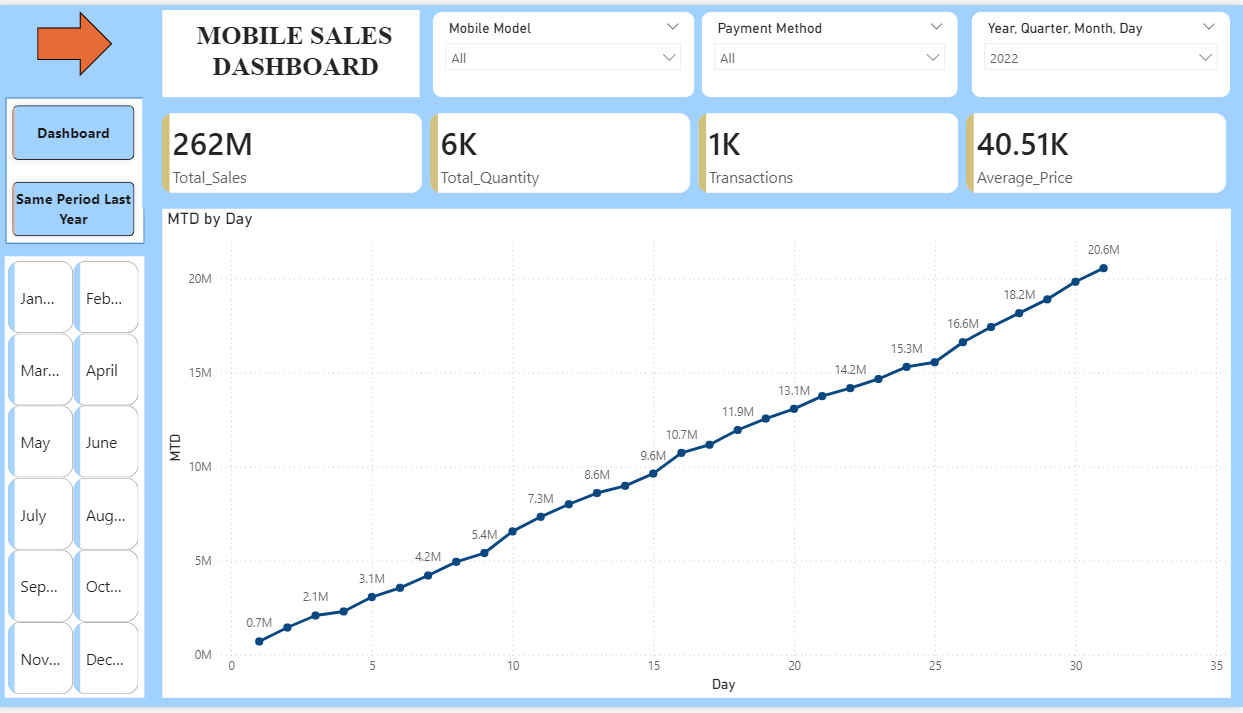

The dashboard page shown, as its layout file describes it:
{"tool":"powerbi","page":{"name":"Month to Date Report","canvas":[1280,720],"ordinal":1},"visuals":[{"type":"slicer","fields":{"Values":["Sales Data.Mobile Model"]},"box":[447.4,6.4,269.2,88.5],"z":0},{"type":"slicer","fields":{"Values":["Sales Data.Payment Method"]},"box":[723.1,6.4,264.1,88.5],"z":1000},{"type":"slicer","fields":{"Values":["Custome_Calendar.Date.Variation.Date Hierarchy.Year","Custome_Calendar.Date.Variation.Date Hierarchy.Quarter","Custome_Calendar.Date.Variation.Date Hierarchy.Month","Custome_Calendar.Date.Variation.Date Hierarchy.Day"]},"box":[1000,6.4,266.7,88.5],"z":2000},{"type":"shape","box":[42.3,6.4,76.9,66.7],"z":3000},{"type":"textbox","box":[170.5,5.1,264.1,89.7],"z":4000},{"type":"shape","box":[9,94.9,143.6,150],"z":5000},{"type":"advancedSlicerVisual","fields":{"Values":["Custome_Calendar.Date.Variation.Date Hierarchy.Month"]},"box":[9,257.7,143.6,452.6],"z":6000},{"type":"cardVisual","fields":{"Data":["Sales Data.Total_Sales","Sales Data.Total_Quantity","Sales Data.Transactions","Sales Data.Average_Price"]},"box":[150,94.9,1129.5,114.1],"z":7000},{"type":"lineChart","fields":{"Category":["Custome_Calendar.Date.Variation.Date Hierarchy.Year","Custome_Calendar.Date.Variation.Date Hierarchy.Quarter","Custome_Calendar.Date.Variation.Date Hierarchy.Month","Custome_Calendar.Date.Variation.Date Hierarchy.Day"],"Y":["Sales Data.MTD"]},"box":[170.5,209,1096.2,501.3],"z":8000},{"type":"pageNavigator","box":[9,94.9,141,150],"z":8001}]}

Visuals, with their boxes in screenshot pixels (x1, y1, x2, y2), scaled from the page's 1280x720 canvas onto the 1243x713 screenshot:
slicer - Sales Data.Mobile Model: (left=434, top=6, right=696, bottom=94)
slicer - Sales Data.Payment Method: (left=702, top=6, right=959, bottom=94)
slicer - Custome_Calendar.Date.Variation.Date Hierarchy.Year x Custome_Calendar.Date.Variation.Date Hierarchy.Quarter: (left=971, top=6, right=1230, bottom=94)
shape: (left=41, top=6, right=116, bottom=72)
textbox: (left=166, top=5, right=422, bottom=94)
shape: (left=9, top=94, right=148, bottom=243)
advancedSlicerVisual - Custome_Calendar.Date.Variation.Date Hierarchy.Month: (left=9, top=255, right=148, bottom=703)
cardVisual - Sales Data.Total_Sales x Sales Data.Total_Quantity: (left=146, top=94, right=1242, bottom=207)
lineChart - Custome_Calendar.Date.Variation.Date Hierarchy.Year x Custome_Calendar.Date.Variation.Date Hierarchy.Quarter: (left=166, top=207, right=1230, bottom=703)
pageNavigator: (left=9, top=94, right=146, bottom=243)
